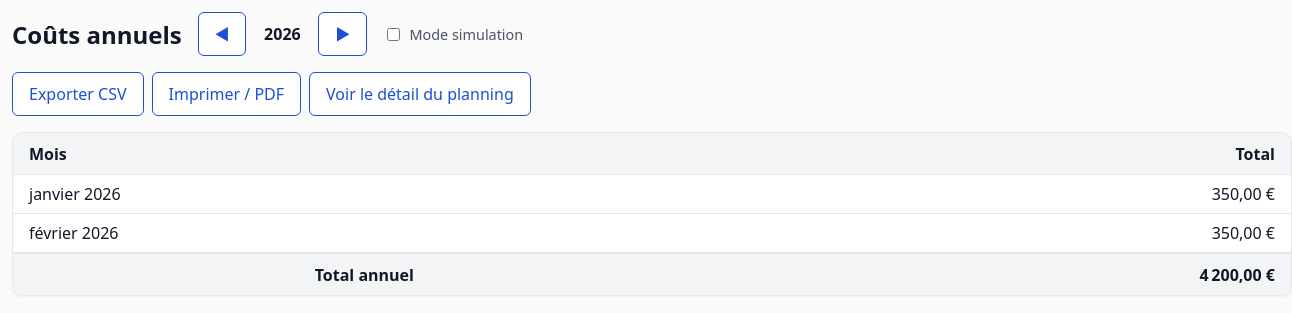
Test: CoutsAnnuelsPage › revient à l'année précédente avec ◀ et refetch
This screenshot has width=1292, height=313.
Expected: the column heading "janvier 2026" is shown, [13,175,716,214]
Click the button named "Année précédente": (222,34) [198,12,246,56]
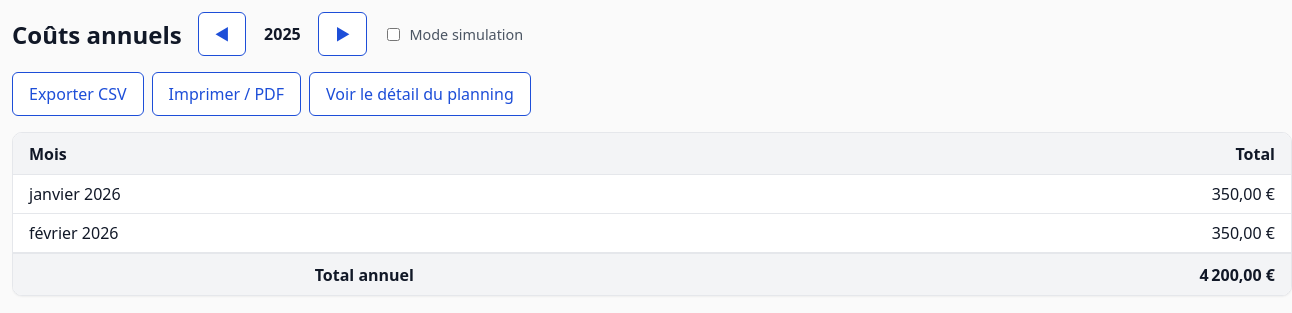
Result: the text "2025" is shown at [264,23,301,45]
